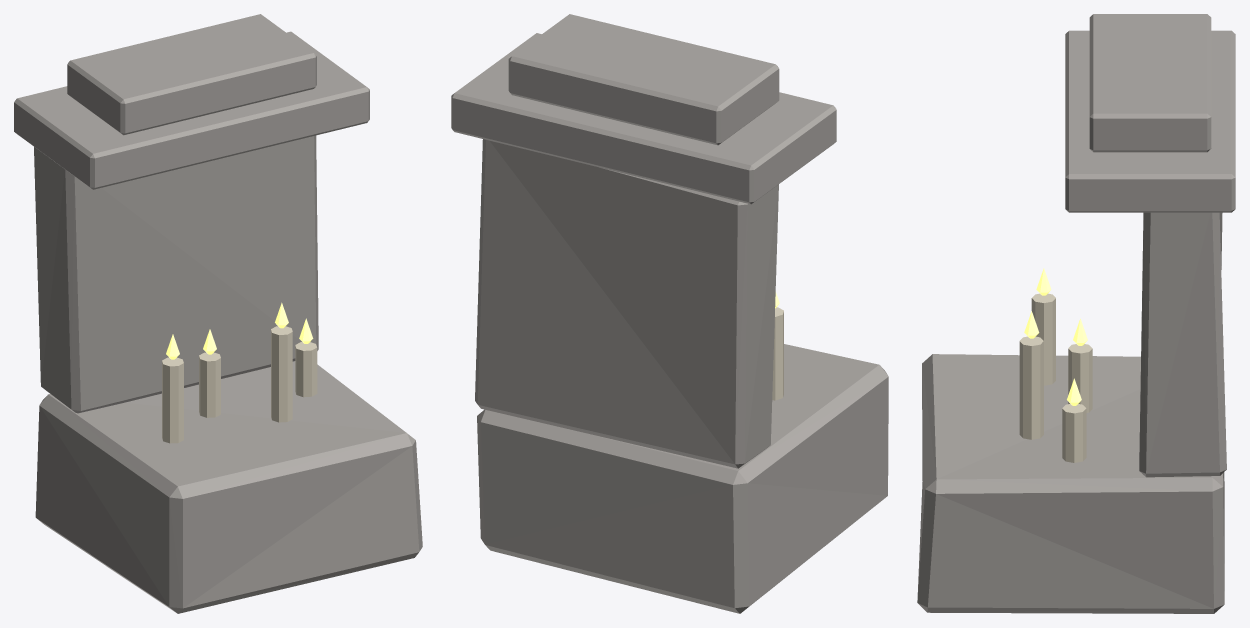
Rendered from shrine.glb.
The picture shows the model from 3 angles, left to right: view 1: azimuth 30°, elevation 25°; view 2: azimuth 150°, elevation 25°; view 3: azimuth 270°, elevation 25°; orthographic projection. The views are drawn at different scales.
Parts seen in each view (by area): view 1: stone, wax, flame; view 2: stone, wax; view 3: stone, wax, flame.
Part boxes in pixels (<box>): stone: <box>14,14,422,613</box>; wax: <box>162,326,317,443</box>; flame: <box>166,302,313,359</box>; stone: <box>451,14,888,613</box>; wax: <box>772,307,783,400</box>; stone: <box>917,14,1235,613</box>; wax: <box>1019,293,1092,462</box>; flame: <box>1024,268,1087,405</box>.
Bounding box in the file's own units: 1.14 × 1.79 × 1.05.
